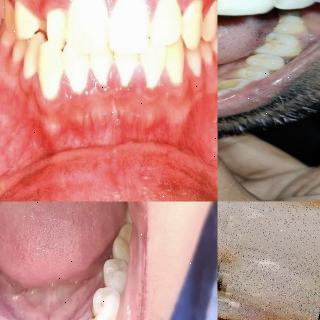Gum Swelling: (127, 62, 206, 126), (81, 65, 133, 129), (46, 73, 84, 128)
calculus: (236, 57, 261, 69), (248, 48, 273, 58), (218, 79, 240, 89)
cavities: (217, 201, 316, 320)
